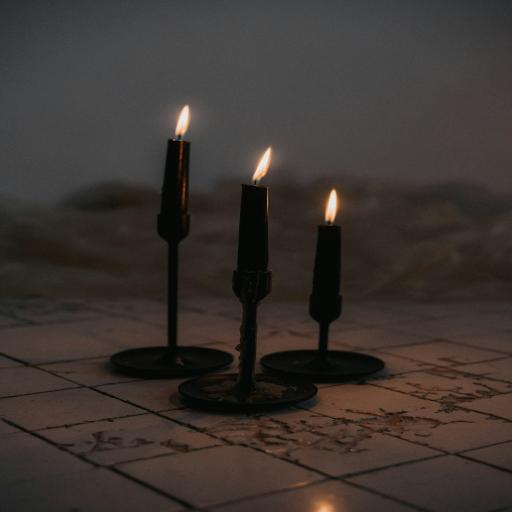candlelight: (231, 134, 289, 303), (148, 90, 211, 234), (304, 178, 360, 321)
